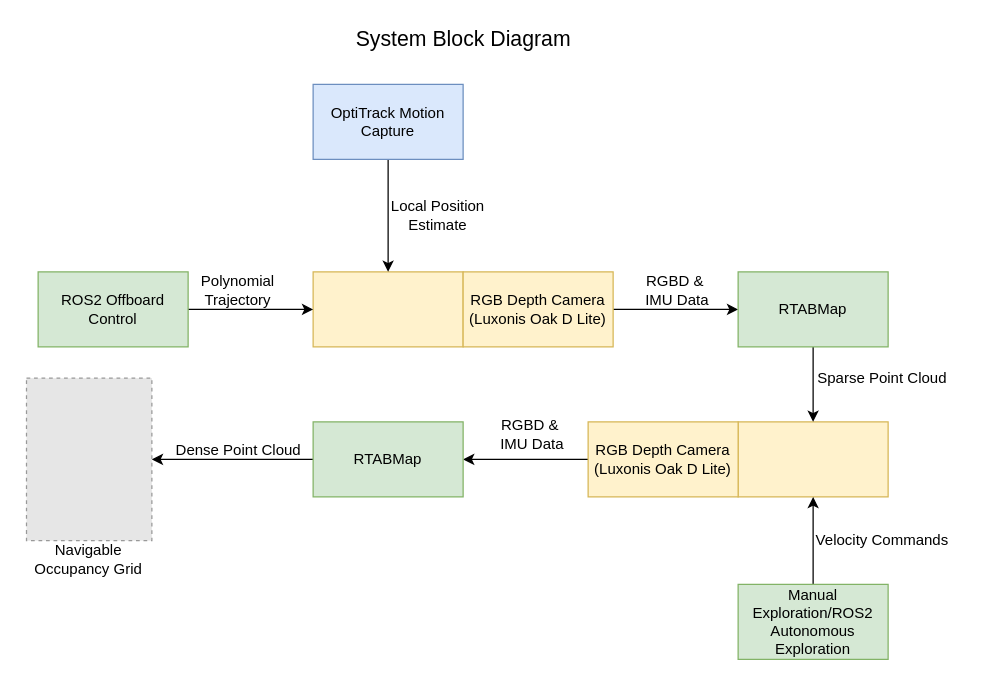
Some shapes in this 985 by 681 pixel diagram are drawn without their labels. Grey dashed boxes stand in for pictures. The shapes that lost their labels are listed below. From the top down, each one's centre as x and y in pixels, then its label:
At point 387,309: "Quadrotor (Holybro QAV 250)".
At point 812,459: "Quadruped (Unitree Go 1)".
